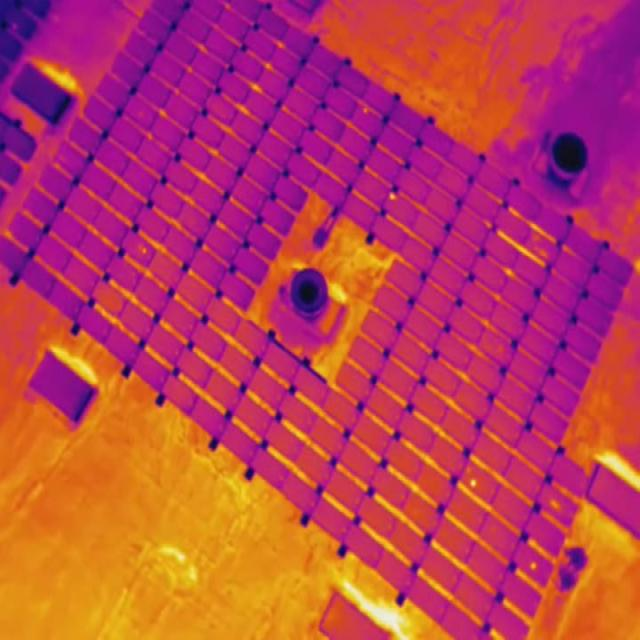Orange-Spots: (550, 499, 560, 510), (138, 244, 146, 254), (469, 478, 476, 486), (540, 250, 547, 257), (530, 562, 536, 570), (533, 234, 539, 240), (466, 467, 471, 473), (364, 107, 368, 114), (390, 193, 394, 199), (534, 246, 538, 250)
